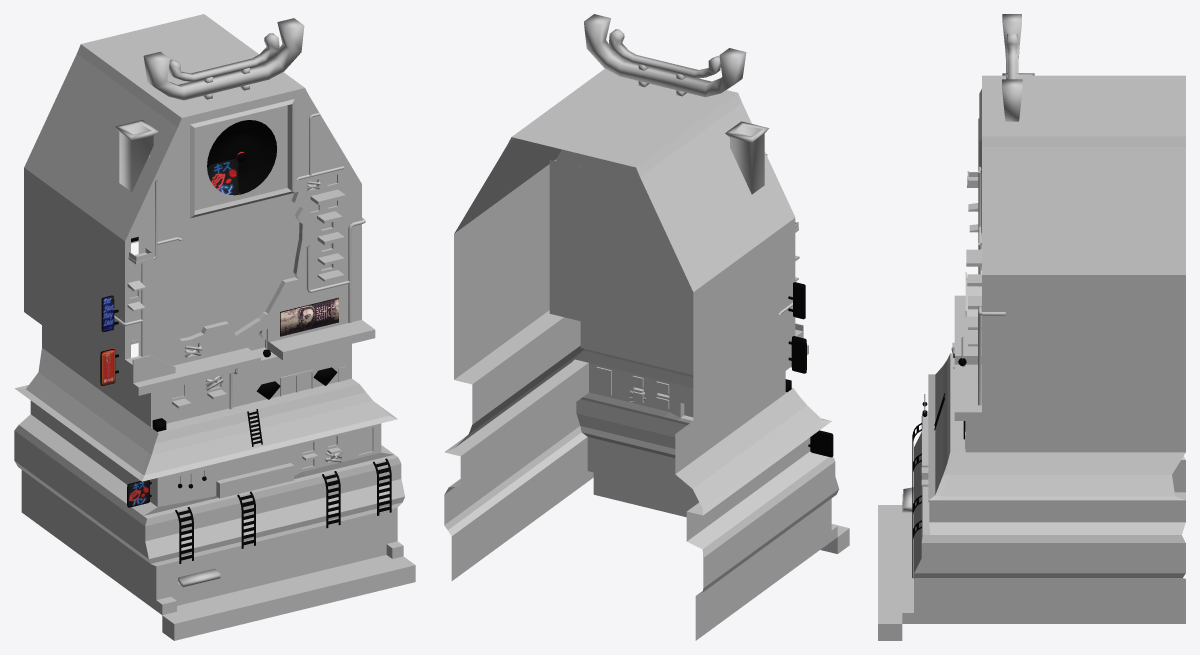
Rendered from TowerNathan5.fbx.
3 renders of one model, left to right at view 1: azimuth 30°, elevation 25°; view 2: azimuth 150°, elevation 25°; view 3: azimuth 270°, elevation 25°, orthographic.
Visible parts, largest first — view 1: polySurface53, polySurface52, polySurface13, Mesh_polySurface31_001, polySurface42, polySurface31, polySurface33, polySurface36, polySurface32; view 2: polySurface53, polySurface52; view 3: polySurface53, Mesh_polySurface31_001.
Boxes of the visible parts, left/top/right/bottom form: polySurface53: left=14, top=14, right=415, bottom=640; polySurface52: left=149, top=155, right=299, bottom=350; polySurface13: left=207, top=120, right=276, bottom=195; Mesh_polySurface31_001: left=114, top=112, right=365, bottom=484; polySurface42: left=280, top=297, right=338, bottom=336; polySurface31: left=322, top=471, right=340, bottom=528; polySurface33: left=373, top=458, right=391, bottom=515; polySurface36: left=237, top=491, right=255, bottom=548; polySurface32: left=175, top=507, right=193, bottom=563; polySurface53: left=444, top=14, right=849, bottom=640; polySurface52: left=549, top=154, right=693, bottom=374; polySurface53: left=878, top=14, right=1185, bottom=640; Mesh_polySurface31_001: left=924, top=118, right=1005, bottom=412.
Bounding box in the file's own units: 8.99 × 17.05 × 8.99.
